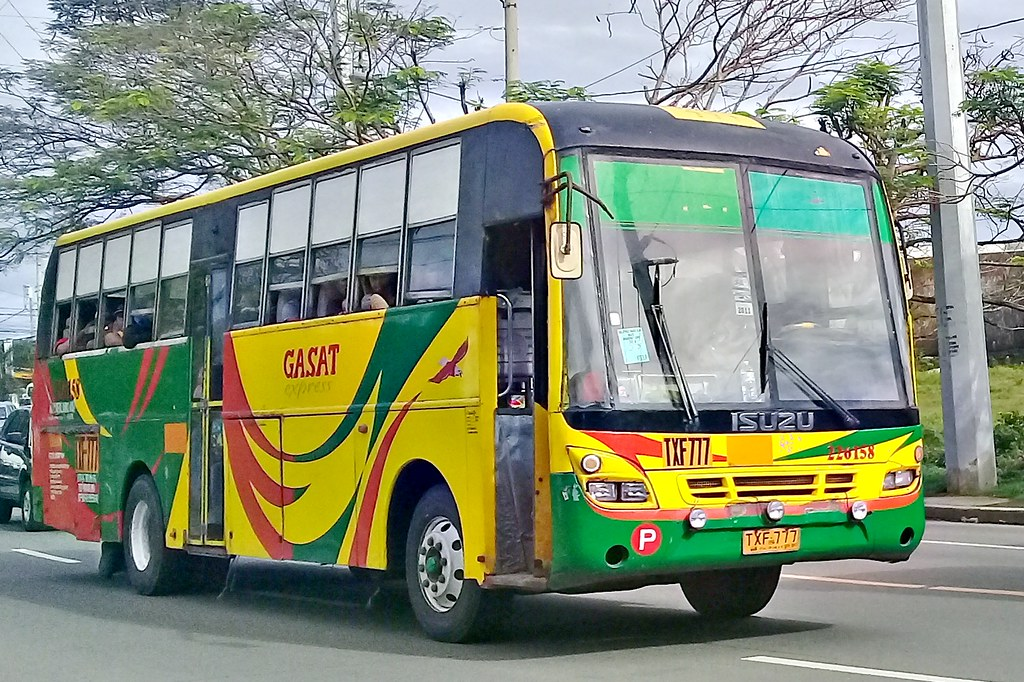bus: (28, 105, 925, 641)
pole: (918, 2, 997, 490)
tree branches: (75, 18, 249, 163)
